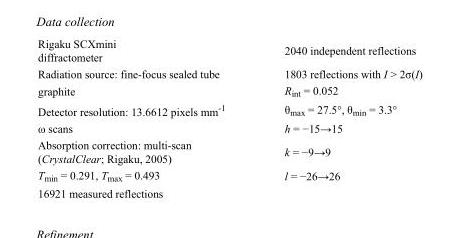table: (37, 36, 421, 199)
table column: (37, 36, 254, 199), (254, 36, 421, 199)
table row: (37, 136, 421, 166), (37, 36, 421, 65), (37, 99, 421, 119), (37, 81, 421, 99), (37, 166, 421, 184), (37, 119, 421, 136), (37, 65, 421, 81), (37, 184, 421, 199)
